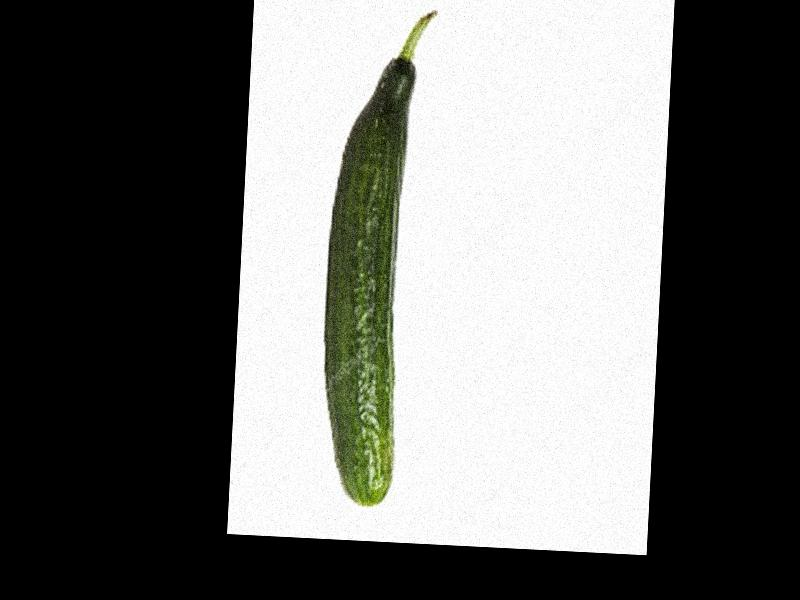Cucumber: (317, 3, 436, 505)
